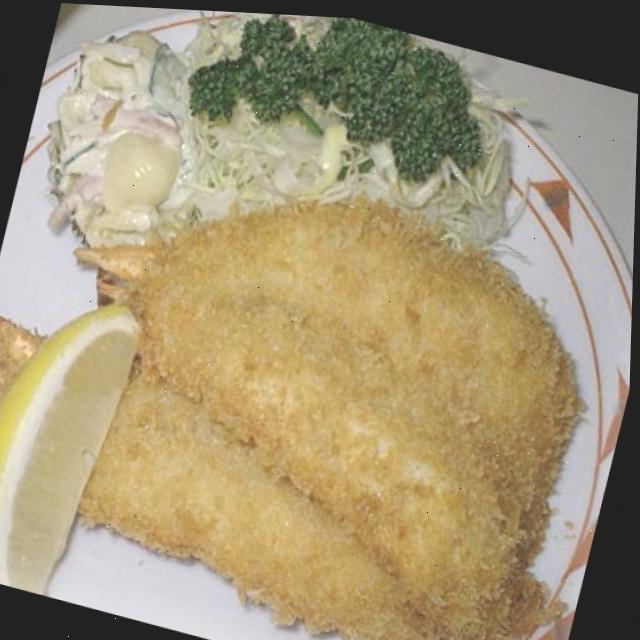炸货点心: (0, 95, 638, 640)
熟制海鲜: (0, 95, 638, 640)
